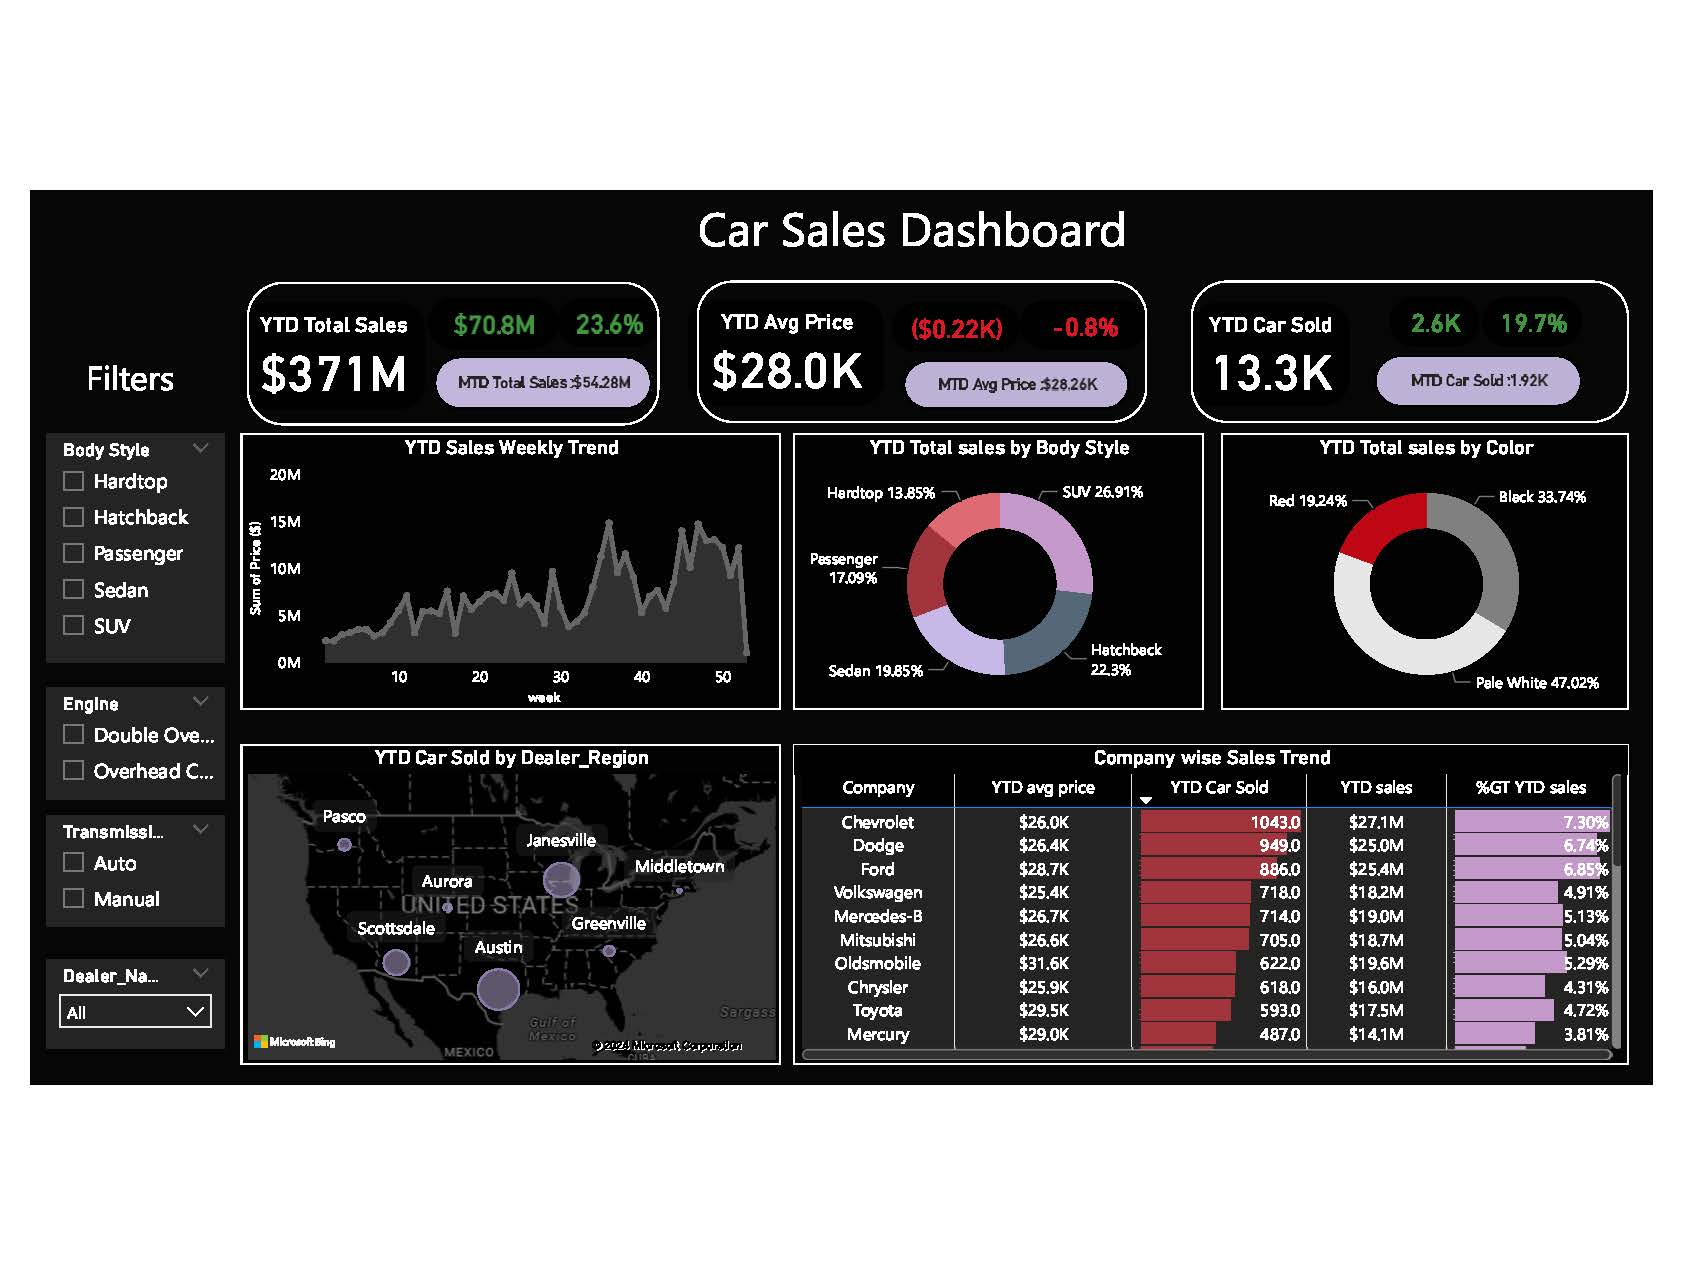

The dashboard page shown, as its layout file describes it:
{"tool":"powerbi","page":{"name":"Page 1","canvas":[1280,720],"ordinal":0},"visuals":[{"type":"card","title":"YTD Total Sales","fields":{"Values":["car_data.YTD sales"]},"box":[165.7,91.4,145.7,84.3],"z":0},{"type":"card","fields":{"Values":["car_data.Sales Difference"]},"box":[314.3,87.1,101.4,40],"z":1000},{"type":"card","fields":{"Values":["car_data.YOY Growth"]},"box":[415.7,87.1,80,38.6],"z":2000},{"type":"card","fields":{"Values":["car_data.New MTD Sales"]},"box":[318.6,134.3,171.4,41.4],"z":3000},{"type":"card","title":"YTD Avg Price","fields":{"Values":["car_data.YTD avg price"]},"box":[518.6,88.6,154.3,84.3],"z":4000},{"type":"card","fields":{"Values":["car_data.Avg diff"]},"box":[680,91.4,100,38.6],"z":5000},{"type":"card","fields":{"Values":["car_data.New MTD Avg price"]},"box":[688.6,137.1,178.6,38.6],"z":6000},{"type":"card","title":"YTD Car Sold","fields":{"Values":["car_data.YTD Car Sold"]},"box":[915.7,91.4,124.3,81.4],"z":7000},{"type":"card","fields":{"Values":["car_data.Car sold Diff"]},"box":[1072.9,85.7,70,40],"z":8000},{"type":"card","fields":{"Values":["car_data.Car sold growth"]},"box":[1145.7,85.7,78.6,40],"z":9000},{"type":"card","fields":{"Values":["car_data.New MTD car sold"]},"box":[1061.4,132.9,162.9,41.4],"z":10000},{"type":"areaChart","title":"YTD Sales Weekly Trend","fields":{"Y":["Sum(car_data.Price ($))"],"Category":["Calendar date.week"]},"box":[165.6,195.8,426.2,221.8],"z":11000},{"type":"donutChart","title":"YTD Total sales by Body Style","fields":{"Category":["car_data.Body Style"],"Y":["car_data.YTD sales"]},"box":[601.9,195.8,324,221.8],"z":12000},{"type":"donutChart","title":"YTD Total sales by Color","fields":{"Y":["car_data.YTD sales"],"Series":["car_data.Color"]},"box":[940.3,195.8,321.1,221.8],"z":13000},{"type":"map","fields":{"Size":["car_data.YTD Car Sold"],"Category":["car_data.Dealer_Region"]},"box":[165.6,446.4,426.2,257.8],"z":14000},{"type":"tableEx","title":"Company wise Sales Trend","fields":{"Values":["car_data.Company","car_data.YTD avg price","car_data.YTD Car Sold","car_data.YTD sales1","car_data.YTD sales"]},"box":[601.9,446.4,659.5,257.8],"z":15000},{"type":"textbox","box":[511.4,0,370,58.6],"z":16000},{"type":"slicer","fields":{"Values":["car_data.Body Style"]},"box":[12.9,195.7,140,184.3],"z":17000},{"type":"slicer","fields":{"Values":["car_data.Dealer_Name"]},"box":[12.9,618.6,140,72.9],"z":18000},{"type":"slicer","fields":{"Values":["car_data.Engine"]},"box":[12.9,400,140,90],"z":19000},{"type":"slicer","fields":{"Values":["car_data.Transmission"]},"box":[12.9,502.9,140,90],"z":20000},{"type":"textbox","box":[38.9,126.7,87.8,46.1],"z":21000},{"type":"card","fields":{"Values":["car_data.YOY Avg price growth"]},"box":[781.4,88.6,100,38.6],"z":22000},{"type":"shape","box":[171.4,74.3,324.3,114.3],"z":23000},{"type":"shape","box":[525.7,72.9,355.7,114.3],"z":23001},{"type":"shape","box":[915.7,72.9,345.7,114.3],"z":23002}]}

Visuals, with their boxes in screenshot pixels (x1, y1, x2, y2):
"YTD Total Sales" card: crop(228, 285, 417, 394)
card - car_data.Sales Difference: crop(421, 279, 552, 331)
card - car_data.YOY Growth: crop(552, 279, 656, 330)
card - car_data.New MTD Sales: crop(426, 341, 649, 394)
"YTD Avg Price" card: crop(686, 281, 886, 391)
card - car_data.Avg diff: crop(895, 285, 1025, 335)
card - car_data.New MTD Avg price: crop(906, 344, 1138, 394)
"YTD Car Sold" card: crop(1201, 285, 1362, 391)
card - car_data.Car sold Diff: crop(1404, 278, 1495, 330)
card - car_data.Car sold growth: crop(1499, 278, 1601, 330)
card - car_data.New MTD car sold: crop(1389, 339, 1601, 393)
"YTD Sales Weekly Trend" areaChart: crop(228, 420, 781, 708)
"YTD Total sales by Body Style" donutChart: crop(794, 420, 1214, 708)
"YTD Total sales by Color" donutChart: crop(1232, 420, 1649, 708)
map - car_data.YTD Car Sold x car_data.Dealer_Region: crop(228, 745, 781, 1080)
"Company wise Sales Trend" tableEx: crop(794, 745, 1649, 1080)
textbox: crop(676, 167, 1156, 243)
slicer - car_data.Body Style: crop(30, 420, 211, 659)
slicer - car_data.Dealer_Name: crop(30, 969, 211, 1063)
slicer - car_data.Engine: crop(30, 685, 211, 802)
slicer - car_data.Transmission: crop(30, 819, 211, 935)
textbox: crop(64, 331, 177, 391)
card - car_data.YOY Avg price growth: crop(1026, 281, 1156, 331)
shape: crop(235, 263, 656, 411)
shape: crop(695, 261, 1156, 409)
shape: crop(1201, 261, 1649, 409)
